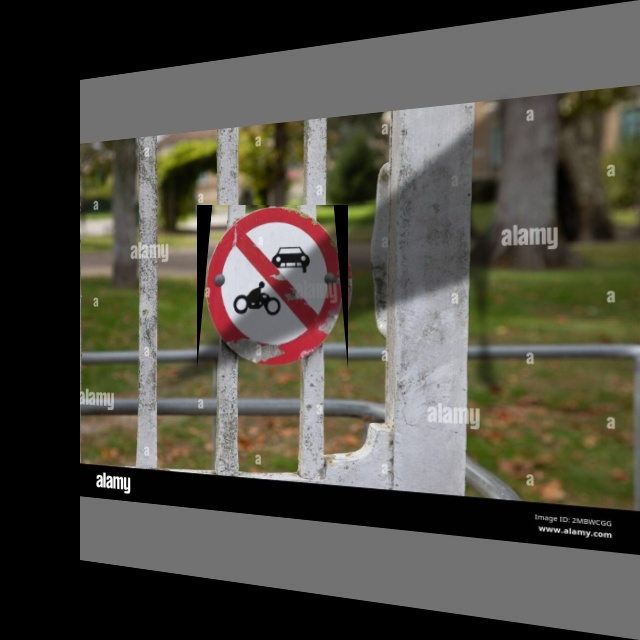All_Motor_Vehicles_Prohibited: (197, 205, 348, 370)
